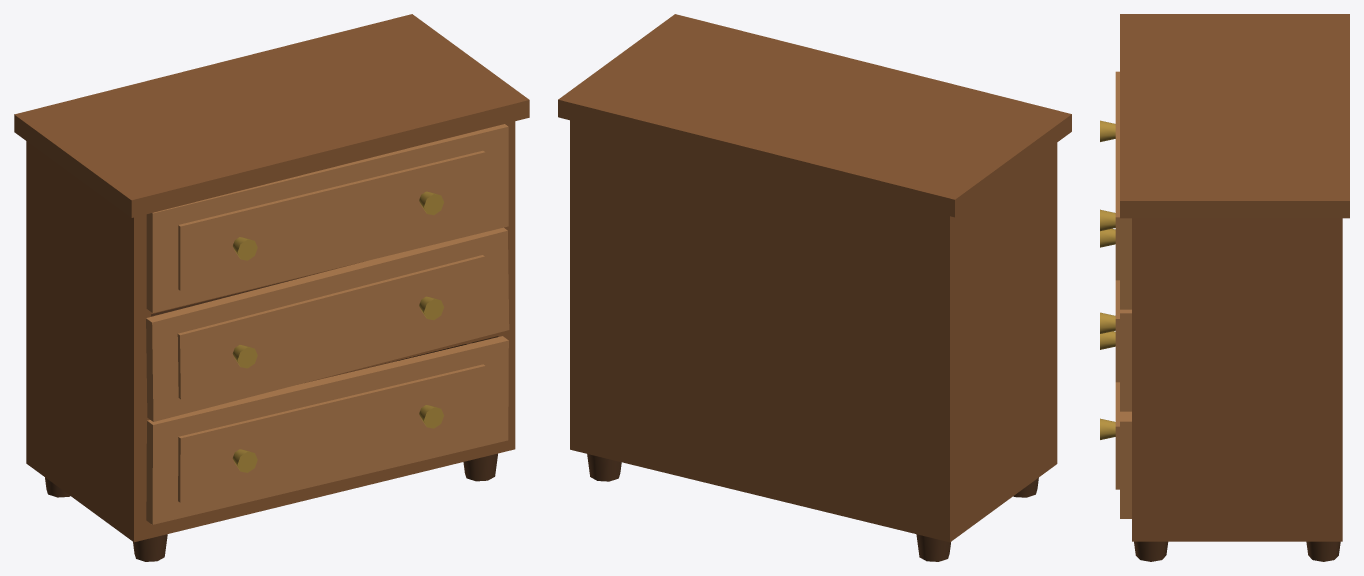
File: LadeKast.glb
3 views of the same model, side by side, from view 1: azimuth 30°, elevation 25°; view 2: azimuth 150°, elevation 25°; view 3: azimuth 270°, elevation 25° (orthographic). The views are drawn at different scales.
Visible parts, largest first — view 1: Carcass, DrawerFront2, DrawerFront3, DrawerFront1, FeetMerged, Knobs3, Knobs1, Knobs2; view 2: Carcass, FeetMerged; view 3: Carcass, DrawerFront1, DrawerFront3, DrawerFront2, FeetMerged, Knobs1, Knobs2, Knobs3.
Boxes of the visible parts, box(x1,y1,x2,y2) form: Carcass: box(14, 14, 529, 542); DrawerFront2: box(146, 227, 509, 421); DrawerFront3: box(146, 336, 508, 524); DrawerFront1: box(146, 124, 508, 312); FeetMerged: box(45, 453, 497, 561); Knobs3: box(232, 405, 443, 472); Knobs1: box(233, 191, 443, 260); Knobs2: box(232, 296, 443, 368); Carcass: box(558, 14, 1071, 542); FeetMerged: box(587, 454, 1038, 561); Carcass: box(1120, 14, 1349, 541); DrawerFront1: box(1115, 71, 1131, 309); DrawerFront3: box(1115, 382, 1131, 518); DrawerFront2: box(1115, 280, 1131, 411); FeetMerged: box(1134, 541, 1340, 561); Knobs1: box(1100, 120, 1115, 231); Knobs2: box(1100, 228, 1115, 333); Knobs3: box(1100, 331, 1115, 439).
Size of the model in its own units: 0.9403 by 0.8538 by 0.5215.
